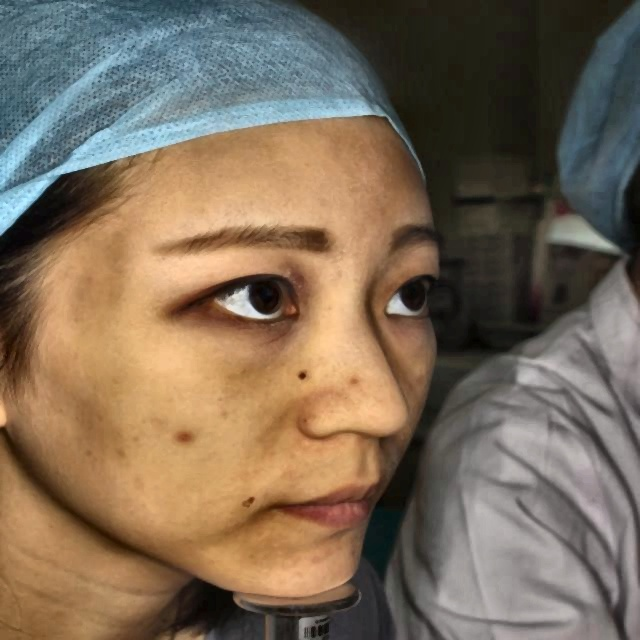comedone: (175, 422, 204, 450)
